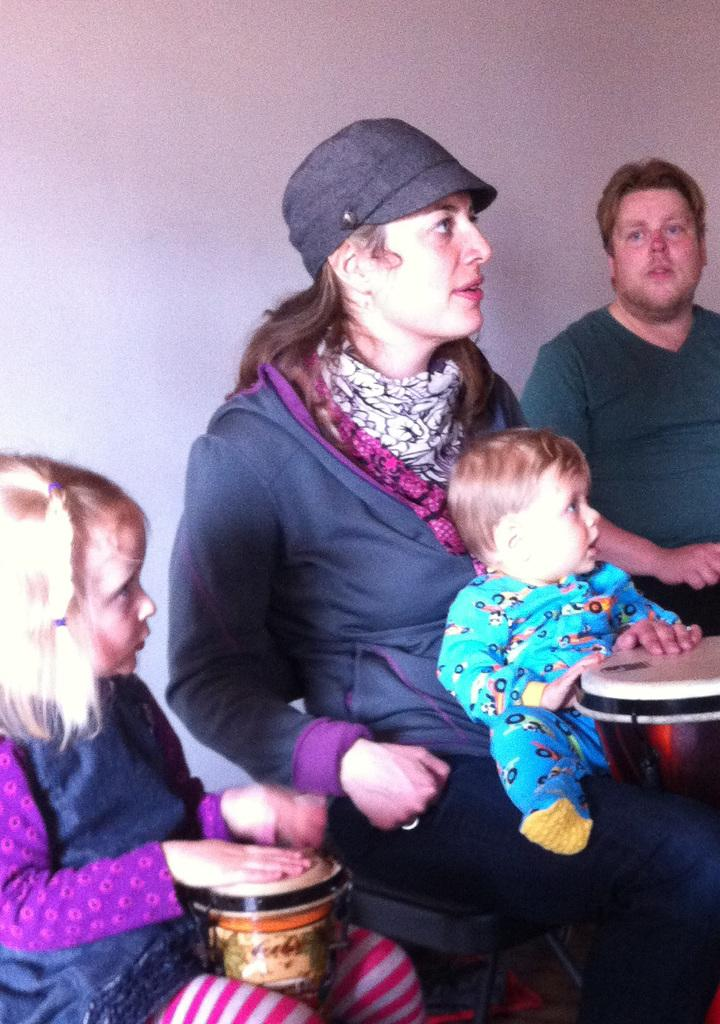Hat: (276, 115, 502, 274)
